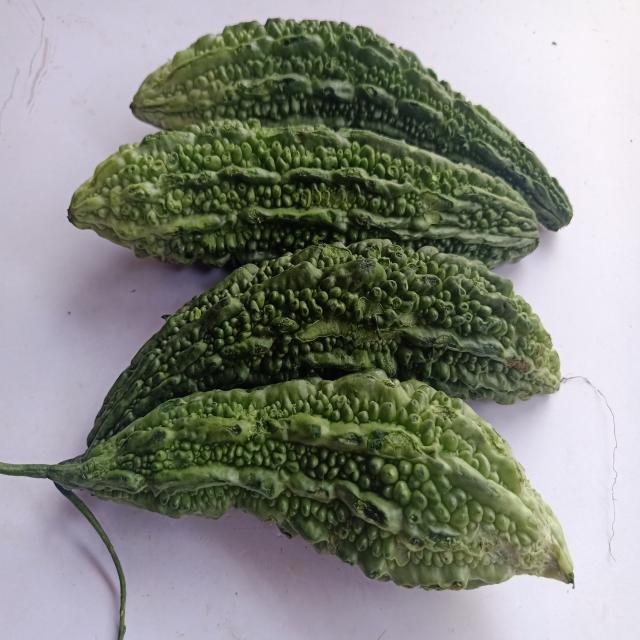Bitter Gourd: (24, 372, 585, 598), (82, 235, 578, 451), (121, 10, 580, 241), (60, 117, 548, 269)
